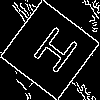H: (25, 25, 82, 83)
